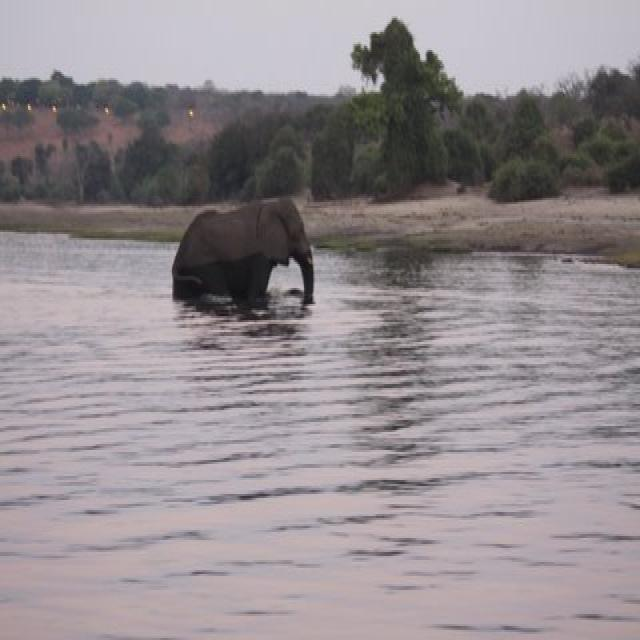Elephant: (170, 194, 314, 306)
